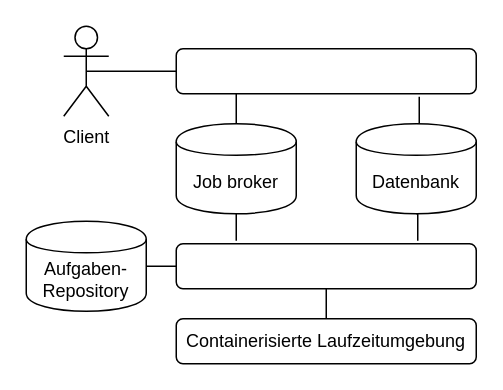
The diagram is 503 pixels wide and 390 high, and some of its shapes have lost their labels. The centre of each missing label's shape, as x and y in pixels:
Hintergrundarbeiter: [325,265]
Webapplikation: [325,70]
